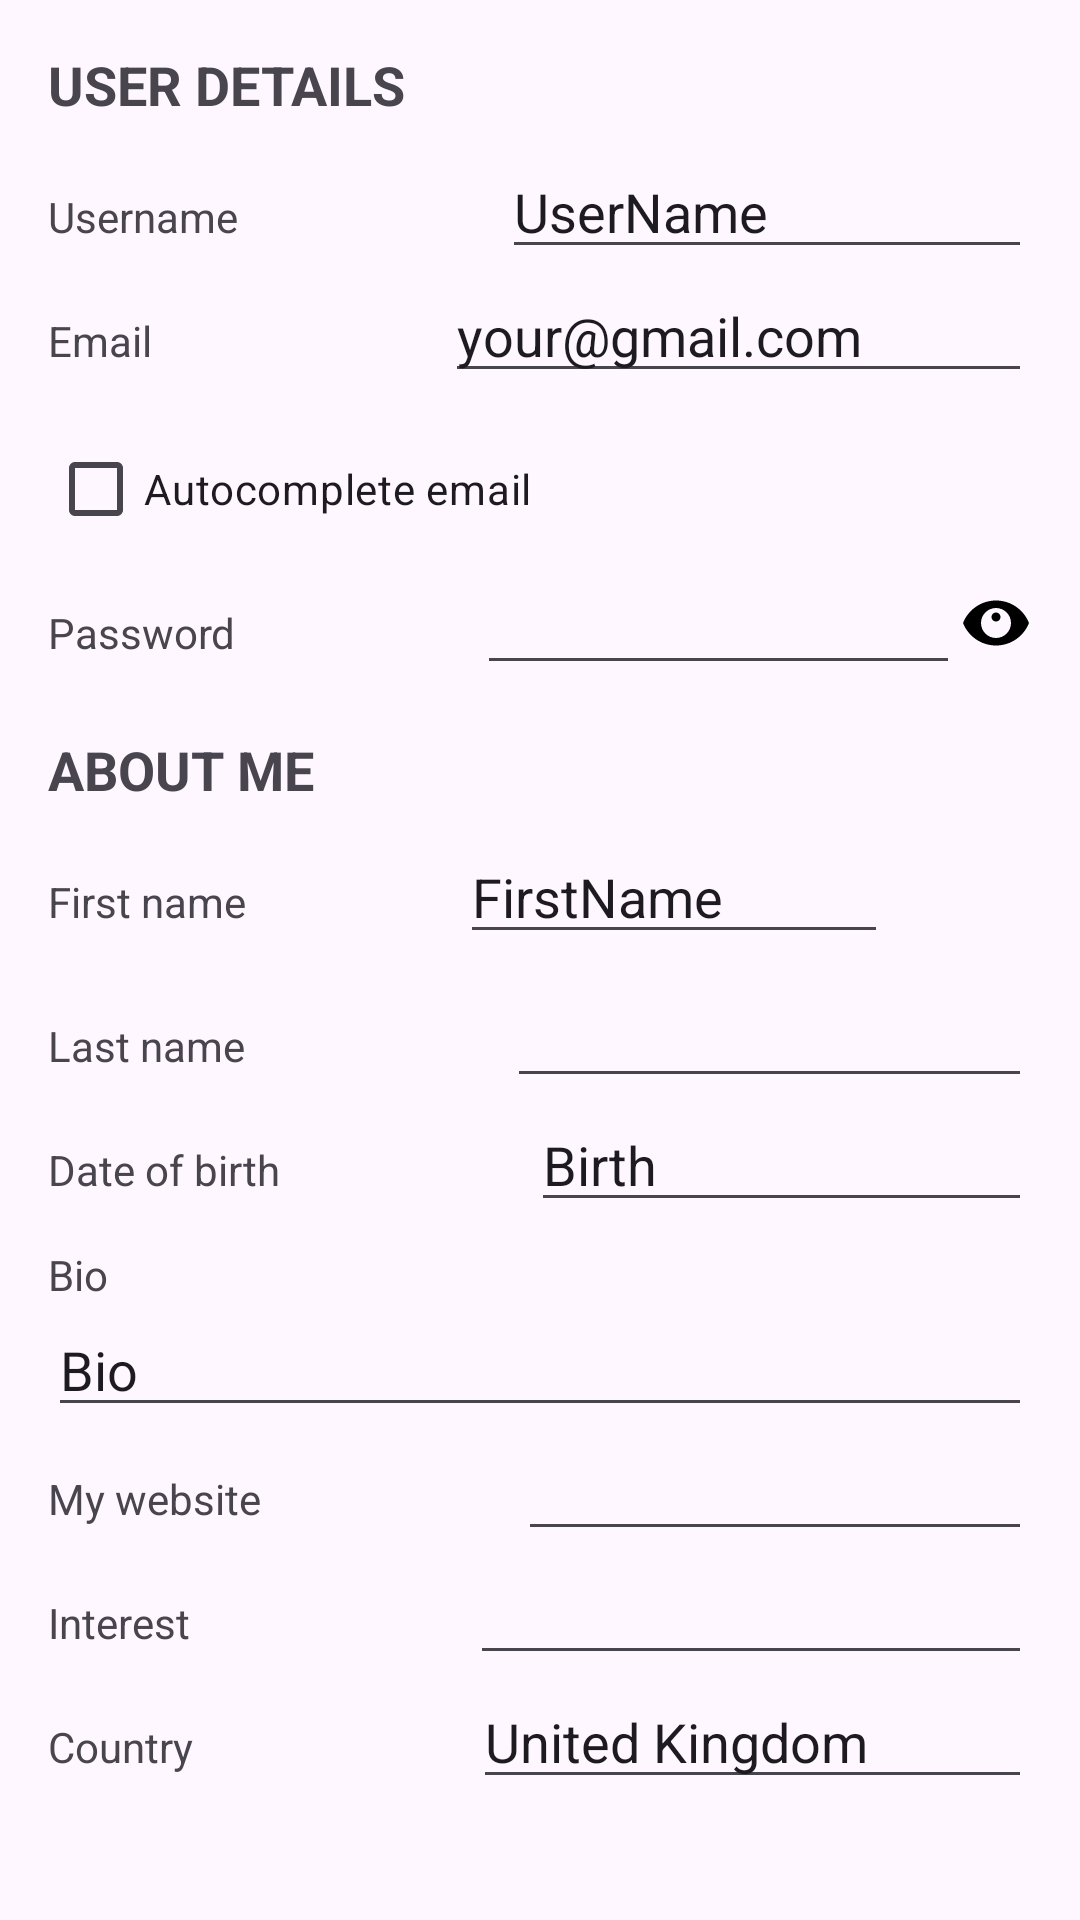

Icons on this 1080x1920 Android screen, each with its box as (x1, y1, x2, y2):
visibility: (963, 600, 1029, 646)
